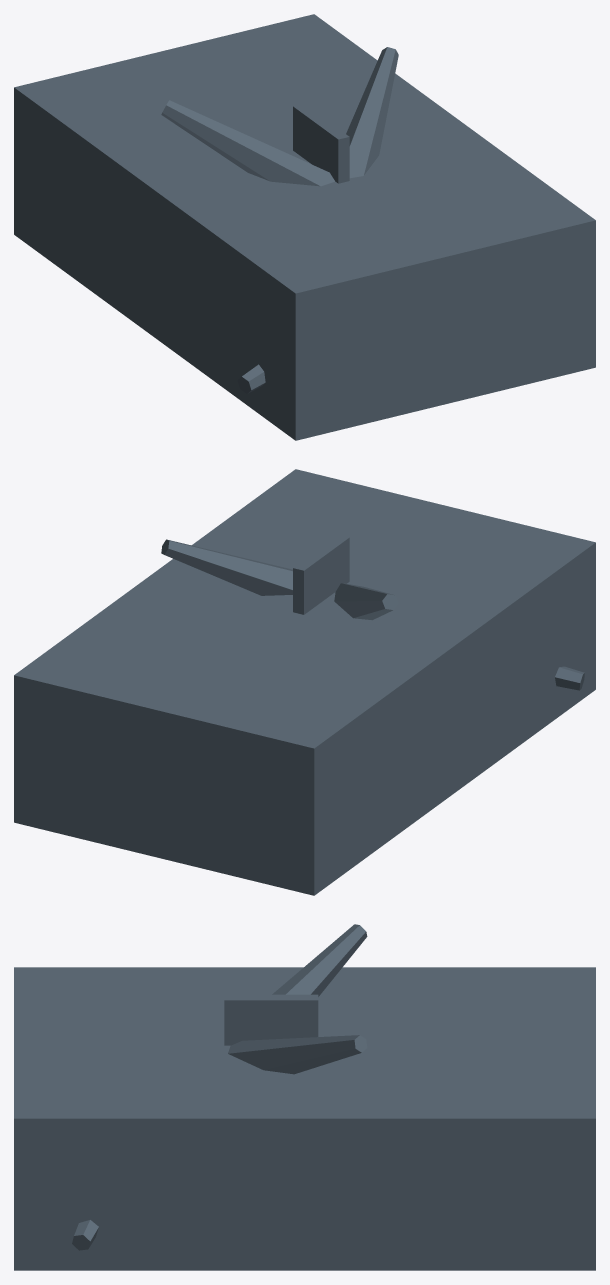
File: ANI_Shark.fbx
The picture shows the model from 3 angles, top to bottom: view 1: azimuth 30°, elevation 25°; view 2: azimuth 150°, elevation 25°; view 3: azimuth 270°, elevation 25°; orthographic projection. The views are drawn at different scales.
Visible parts, largest first — view 1: ANI_Shark__COL_Main, ANI_Shark__BODY; view 2: ANI_Shark__COL_Main, ANI_Shark__BODY; view 3: ANI_Shark__COL_Main, ANI_Shark__BODY.
Part boxes in pixels (x1,y1,x2,y2): ANI_Shark__COL_Main: [14, 14, 595, 440]; ANI_Shark__BODY: [161, 47, 398, 393]; ANI_Shark__COL_Main: [14, 469, 595, 895]; ANI_Shark__BODY: [161, 535, 584, 690]; ANI_Shark__COL_Main: [14, 967, 595, 1270]; ANI_Shark__BODY: [72, 924, 367, 1250].
Bounding box in the file's own units: 1.83 × 1.06 × 2.6.
